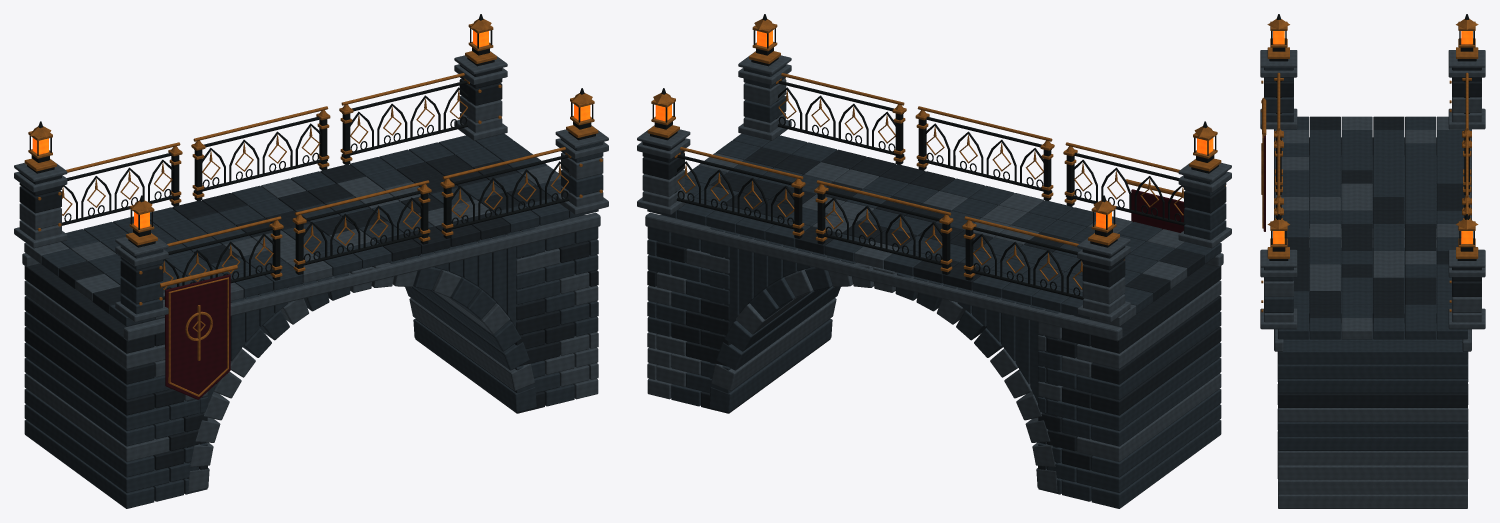
The model's file is bridge_arch.fbx.
The picture shows the model from 3 angles, left to right: view 1: azimuth 30°, elevation 25°; view 2: azimuth 150°, elevation 25°; view 3: azimuth 270°, elevation 25°; orthographic projection. The views are drawn at different scales.
Parts seen in each view (by area): view 1: bridge_arch_deck, bridge_arch_abutments, bridge_arch_arch, bridge_arch_ironwork, bridge_arch_posts, bridge_arch_banner, bridge_arch_lamp, bridge_arch_structure; view 2: bridge_arch_deck, bridge_arch_abutments, bridge_arch_arch, bridge_arch_ironwork, bridge_arch_posts, bridge_arch_lamp, bridge_arch_structure, bridge_arch_banner; view 3: bridge_arch_deck, bridge_arch_abutments, bridge_arch_posts, bridge_arch_lamp, bridge_arch_arch, bridge_arch_ironwork, bridge_arch_structure, bridge_arch_banner.
Boxes of the visible parts, x1,y1,x2,y2 form: bridge_arch_deck: (22,133,600,341); bridge_arch_abutments: (24,215,598,508); bridge_arch_arch: (187,227,536,492); bridge_arch_ironwork: (61,73,569,299); bridge_arch_posts: (14,51,608,322); bridge_arch_banner: (160,264,237,399); bridge_arch_lamp: (24,14,598,247); bridge_arch_structure: (169,83,570,280); bridge_arch_deck: (645,133,1223,341); bridge_arch_abutments: (647,215,1221,508); bridge_arch_arch: (709,227,1070,492); bridge_arch_ironwork: (676,73,1185,299); bridge_arch_posts: (637,51,1231,322); bridge_arch_lamp: (647,14,1221,247); bridge_arch_structure: (675,83,1076,280); bridge_arch_banner: (1126,179,1184,232); bridge_arch_deck: (1274,116,1471,351); bridge_arch_abutments: (1278,137,1467,508); bridge_arch_posts: (1260,50,1485,329); bridge_arch_lamp: (1267,14,1478,260); bridge_arch_arch: (1277,155,1468,478); bridge_arch_ironwork: (1275,72,1470,215); bridge_arch_structure: (1274,81,1471,219); bridge_arch_banner: (1261,97,1266,231).
Bounding box in the file's own units: 802 × 500 × 354.
Materials: 7 (7 with a texture image).
